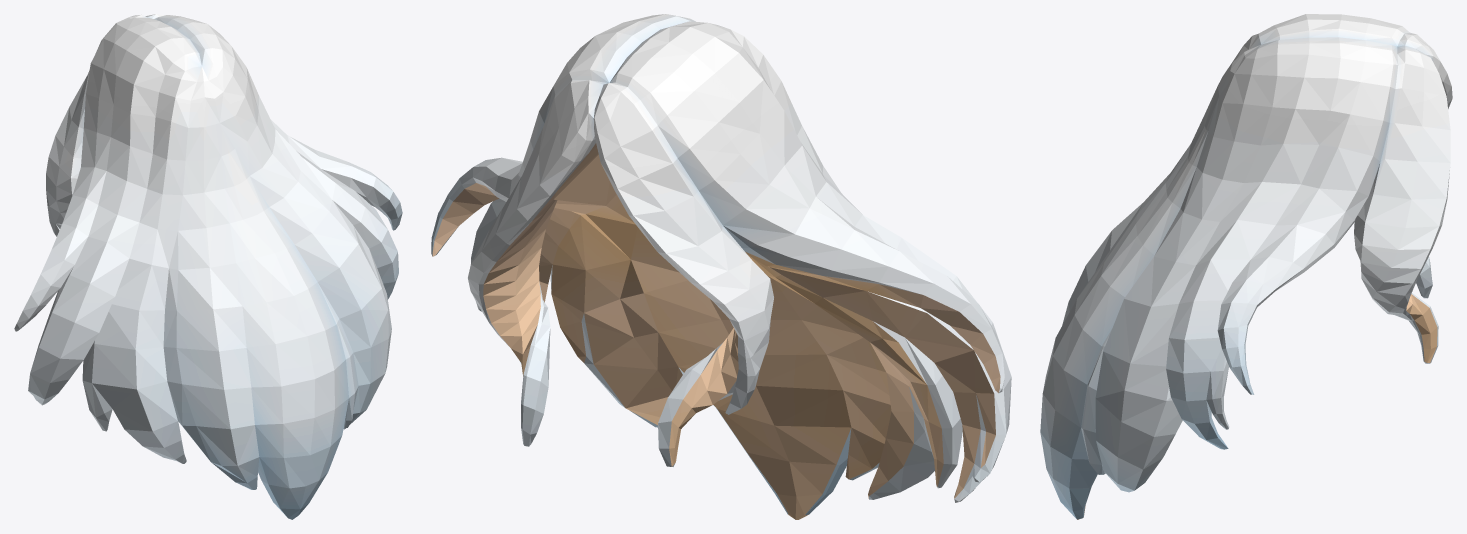
The model's file is CharSkyKid_Hair_AP29Highlights.glb.
The picture shows the model from 3 angles, left to right: view 1: azimuth 30°, elevation 25°; view 2: azimuth 150°, elevation 25°; view 3: azimuth 270°, elevation 25°; orthographic projection. The views are drawn at different scales.
Visible parts, largest first — view 1: CharSkyKid_Hair_AP29Highlights; view 2: CharSkyKid_Hair_AP29Highlights; view 3: CharSkyKid_Hair_AP29Highlights.
Part boxes in pixels (box(x1,y1,x2,y2)): CharSkyKid_Hair_AP29Highlights: box(14, 14, 402, 519); CharSkyKid_Hair_AP29Highlights: box(431, 14, 1011, 519); CharSkyKid_Hair_AP29Highlights: box(1040, 14, 1452, 519).
Size of the model in its own units: 6.79 by 6.94 by 5.33.
1 material, 1 textured.
